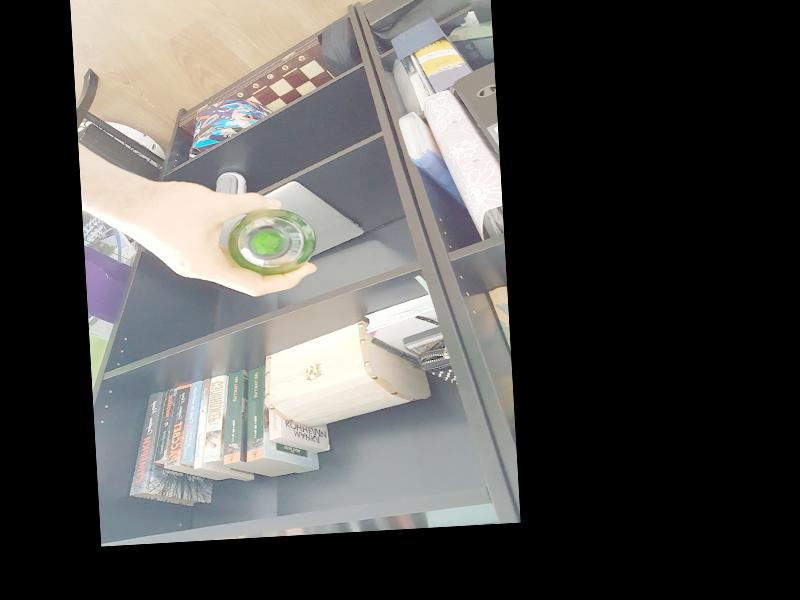Beer: (228, 205, 312, 276)
